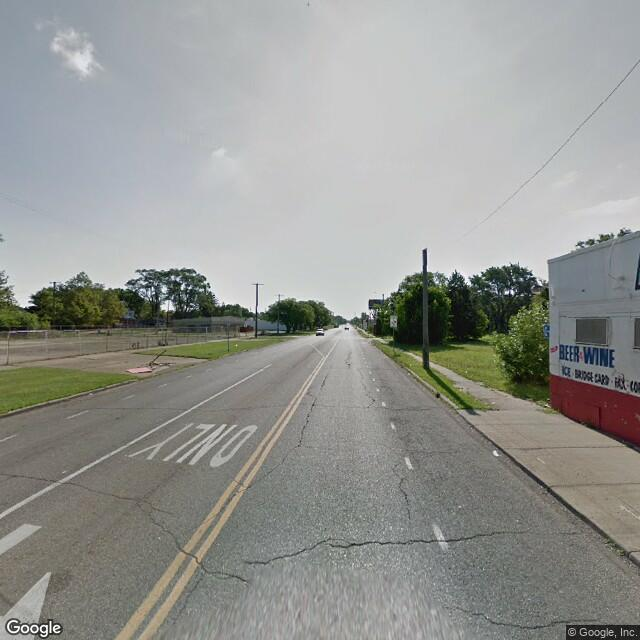litter: (486, 440, 503, 459)
